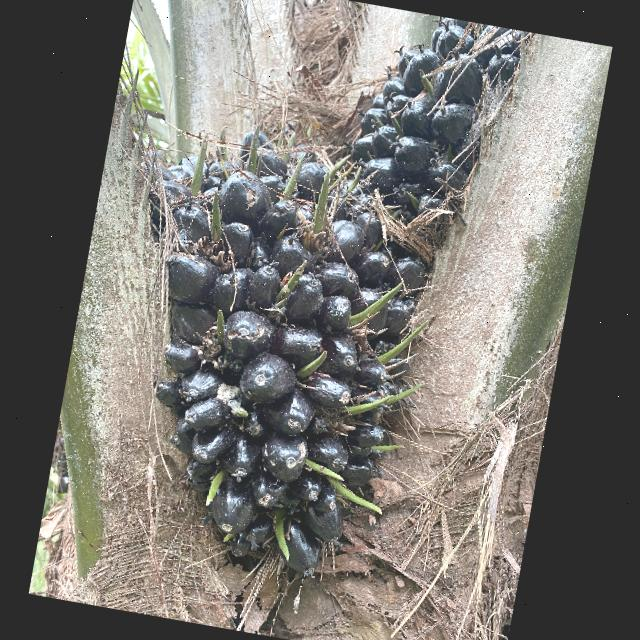Unripe: (153, 21, 516, 572)
